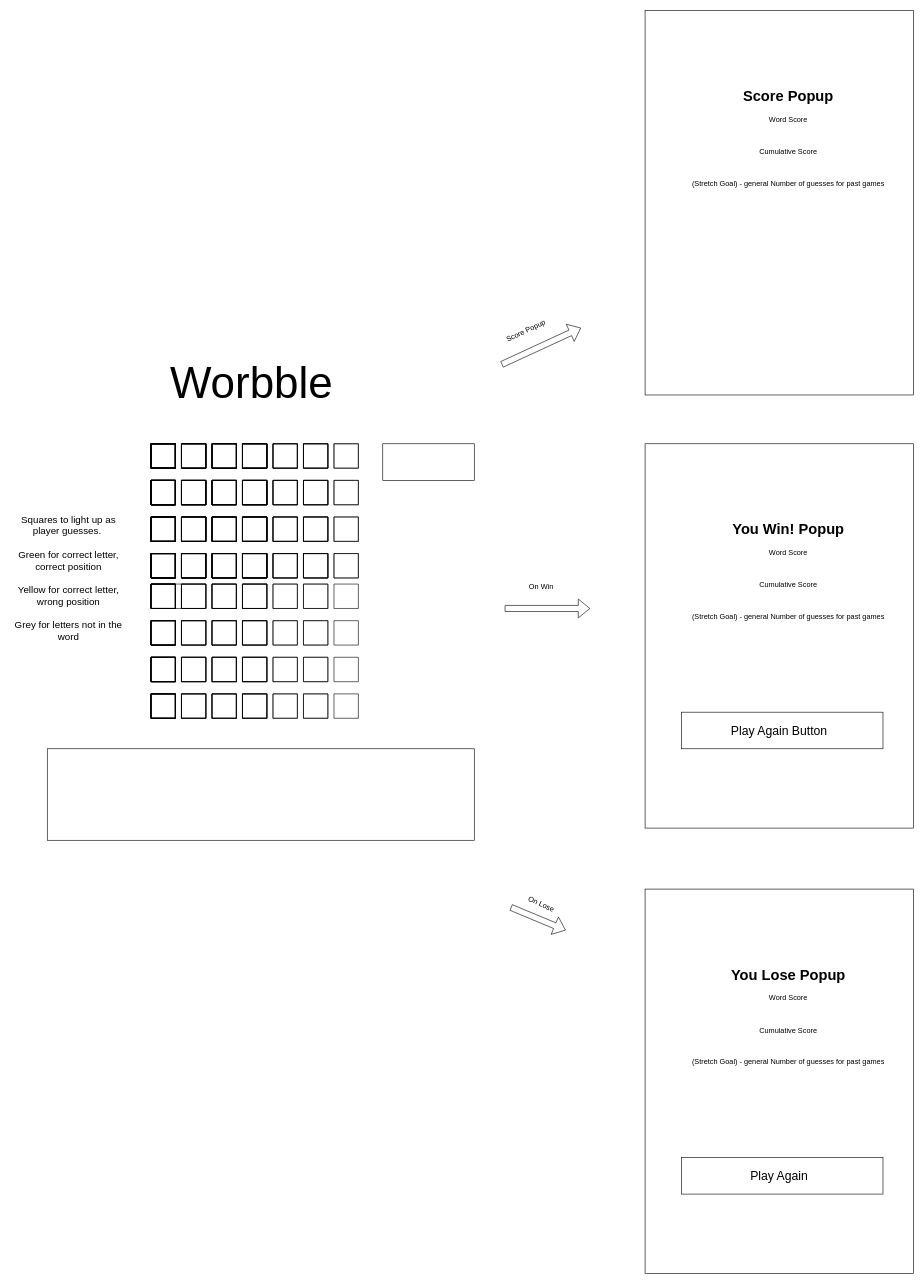
This 924x1284 diagram has some shape labels left out. Here are the shapes that lost their labels. From the top down, the centre of each, then its label:
At (x=428, y=461): "Score button".
At (x=260, y=794): "Keyboard showing used letters".
